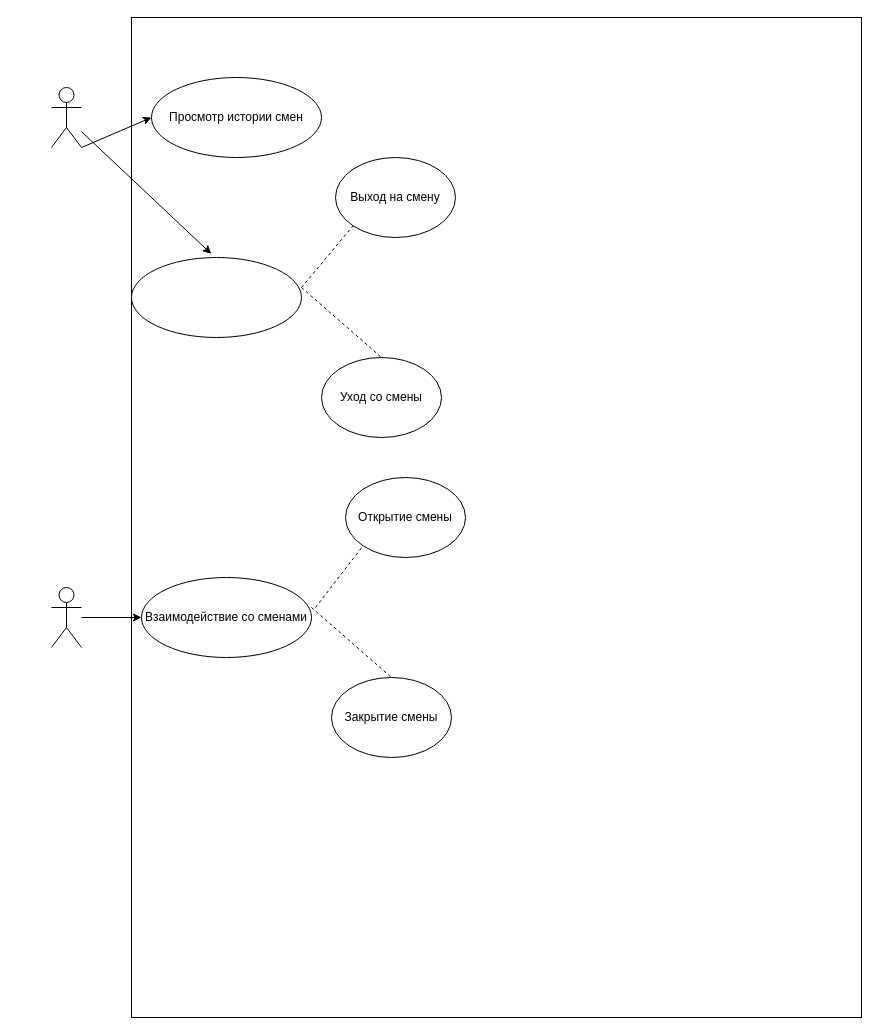
Some shapes in this 879 by 1035 pixel diagram are drawn without their labels. The centre of each missing label's shape, as x and y in pixels:
Взаимодействие со сменой: (x=216, y=297)
Начальник смены: (x=66, y=617)
Работник: (x=66, y=117)
